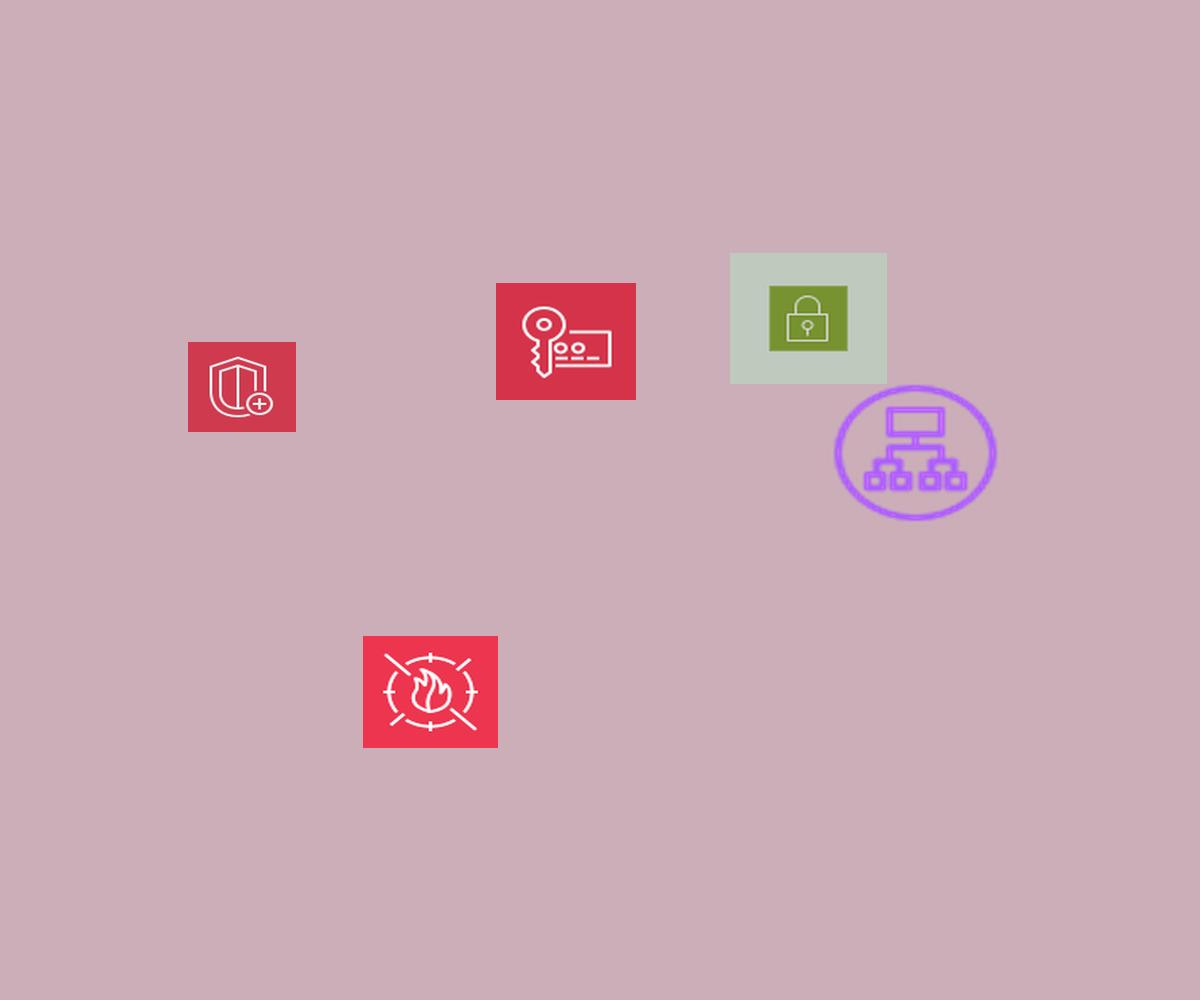AWS-Key-Management-Service: (496, 283, 636, 400)
AWS-Public-subnet: (730, 253, 887, 384)
AWS-Res_Elastic-Load-Balancing_Application-Load-Balancer: (827, 379, 1004, 527)
AWS-Shield: (188, 342, 296, 432)
AWS-WAF: (363, 636, 498, 748)
